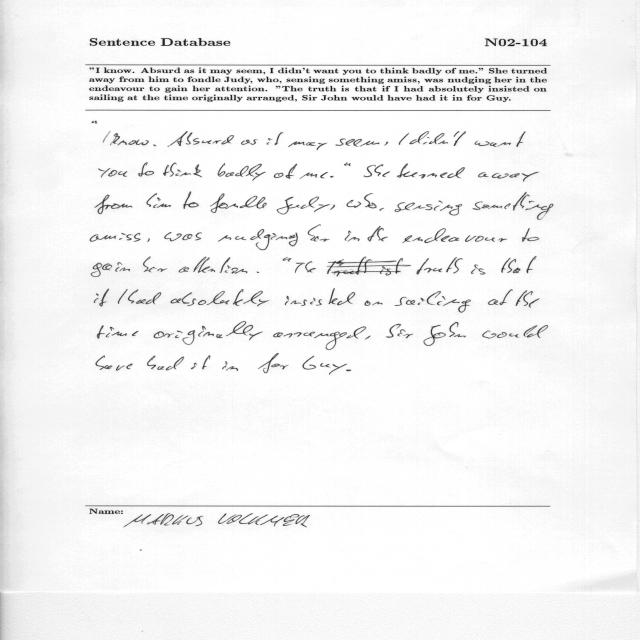word: (327, 257, 463, 277), (154, 321, 263, 345), (273, 326, 371, 350), (473, 192, 554, 220), (170, 289, 269, 307), (218, 229, 298, 250), (395, 291, 471, 313), (402, 228, 507, 243), (285, 288, 355, 306), (179, 257, 248, 274), (210, 193, 267, 213), (168, 131, 234, 147), (423, 322, 466, 346), (397, 164, 465, 179), (395, 201, 462, 216), (277, 197, 331, 215), (482, 325, 548, 339), (218, 163, 266, 181), (409, 131, 466, 146), (302, 356, 347, 375), (475, 131, 526, 147), (95, 195, 132, 214), (258, 354, 289, 374), (478, 172, 539, 182), (502, 256, 537, 273), (163, 163, 202, 178), (91, 262, 130, 277), (98, 325, 139, 339), (96, 356, 133, 371), (147, 356, 184, 371), (110, 133, 149, 146), (128, 290, 161, 305), (90, 233, 141, 242), (347, 193, 377, 208), (516, 290, 540, 308), (488, 289, 513, 305), (143, 257, 167, 273), (146, 193, 171, 208), (274, 164, 298, 179), (308, 225, 329, 242), (336, 139, 380, 147), (288, 141, 327, 150), (363, 165, 390, 178), (164, 232, 202, 241), (367, 226, 388, 242), (99, 168, 127, 178), (183, 192, 199, 209), (94, 289, 109, 307), (191, 356, 210, 370), (295, 261, 316, 273), (522, 228, 539, 242), (138, 163, 154, 177), (267, 132, 284, 145), (386, 324, 401, 338), (300, 172, 328, 179), (222, 361, 238, 371), (345, 231, 360, 241), (118, 289, 128, 304), (398, 330, 414, 339), (471, 265, 485, 275), (399, 133, 409, 145), (241, 139, 258, 145), (103, 131, 111, 143), (365, 301, 383, 306), (283, 257, 292, 261), (344, 163, 351, 167), (330, 205, 335, 210), (384, 142, 388, 146), (92, 121, 97, 124), (379, 208, 384, 211), (147, 238, 150, 242), (346, 370, 351, 372), (153, 145, 157, 147), (330, 176, 334, 178), (257, 272, 259, 273)
